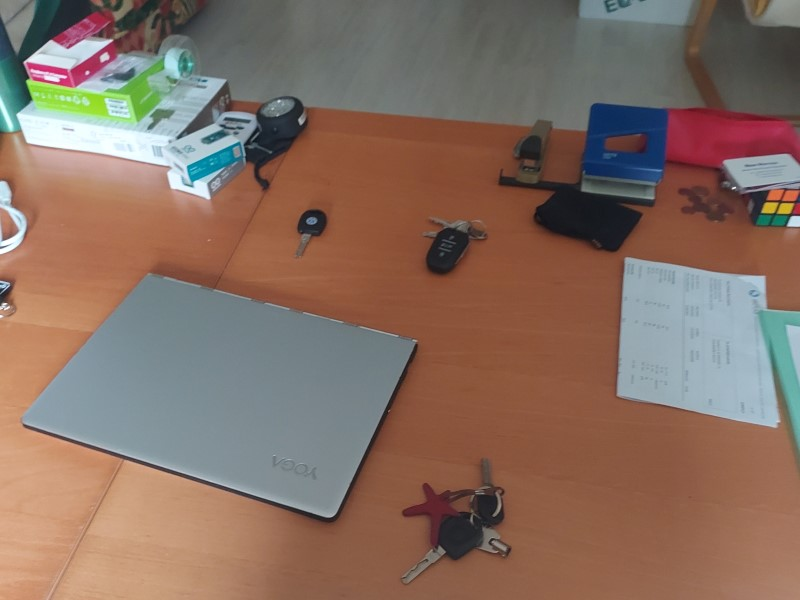carkey: (423, 224, 469, 273)
key: (396, 513, 484, 586), (470, 454, 503, 524), (290, 204, 329, 258), (475, 524, 514, 557), (423, 211, 466, 232)
